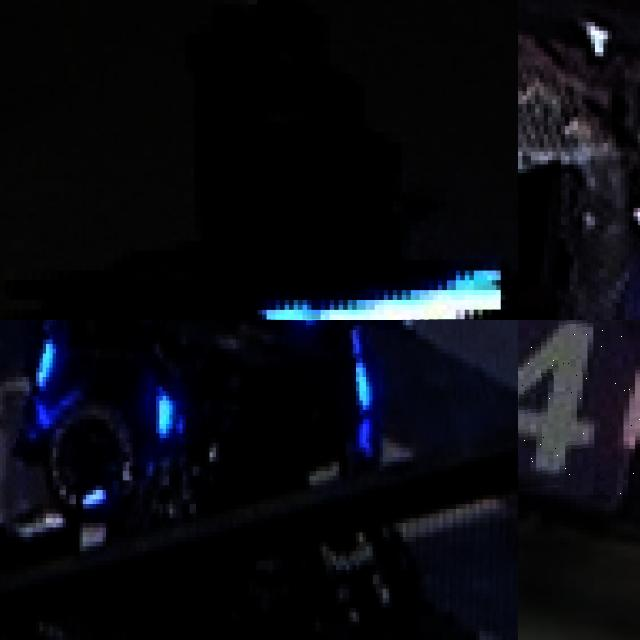R4: (518, 320, 640, 495)
